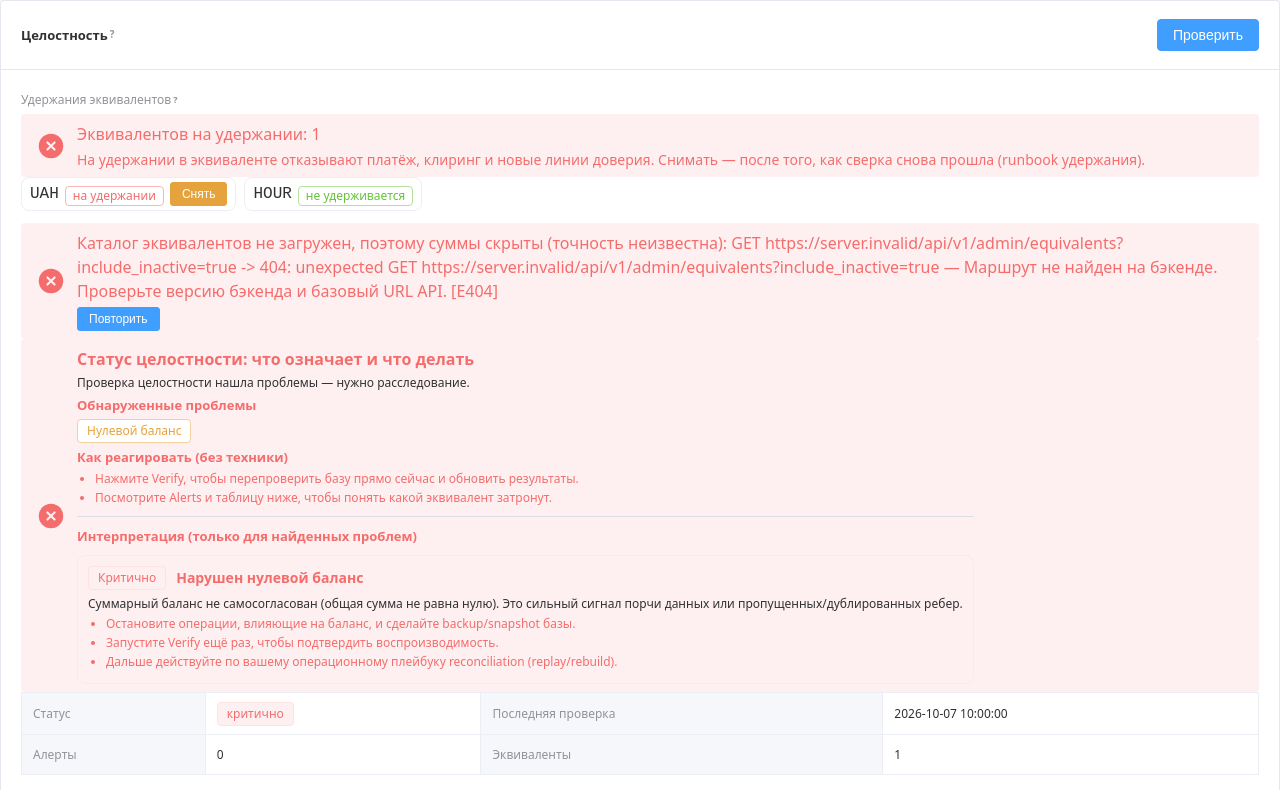
Test: Integrity screen: after a clear the status is read again (033 B, item 1) › reads the status again after a refused clear too: the answer decides, not the click
The width and height of the screenshot is (1280, 790).
What coordinates should you click on to do the following:
click the button "Снять"
I would click on:
 (199, 194)
Its box is [170,182,227,206].
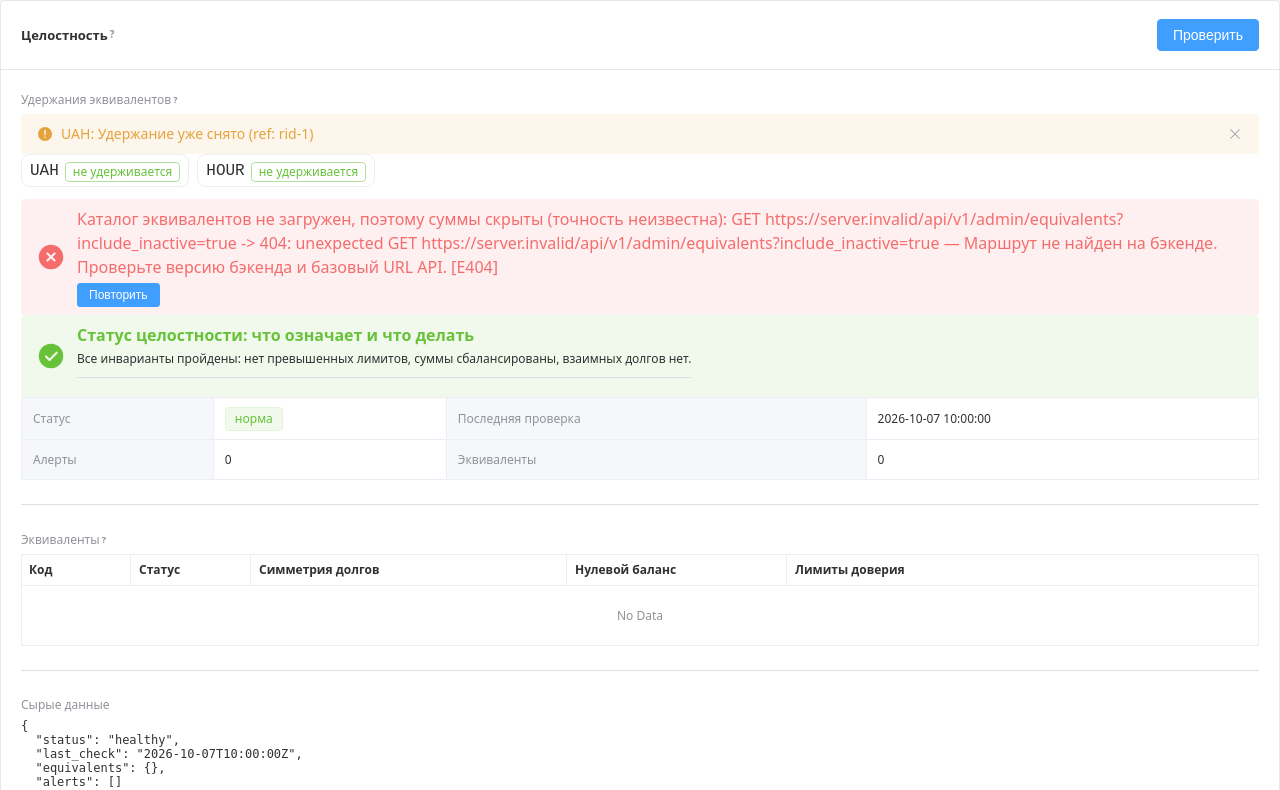
Check: the text "Критично" is gone
Check: the element with test id "integrity-hold-refusal" is shown, box [21,114,1259,154]
